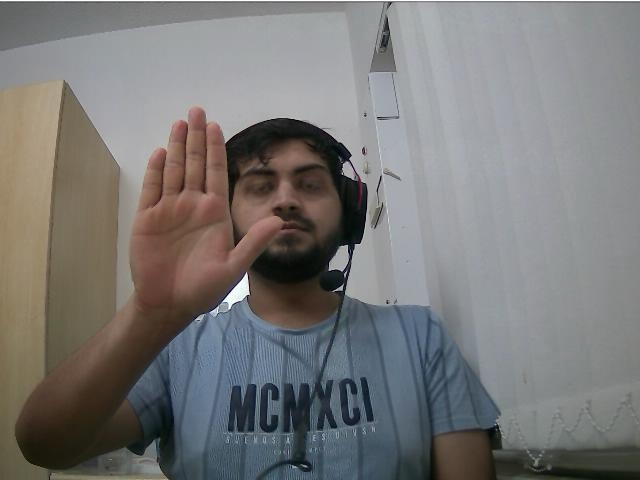up: (129, 104, 235, 315)
